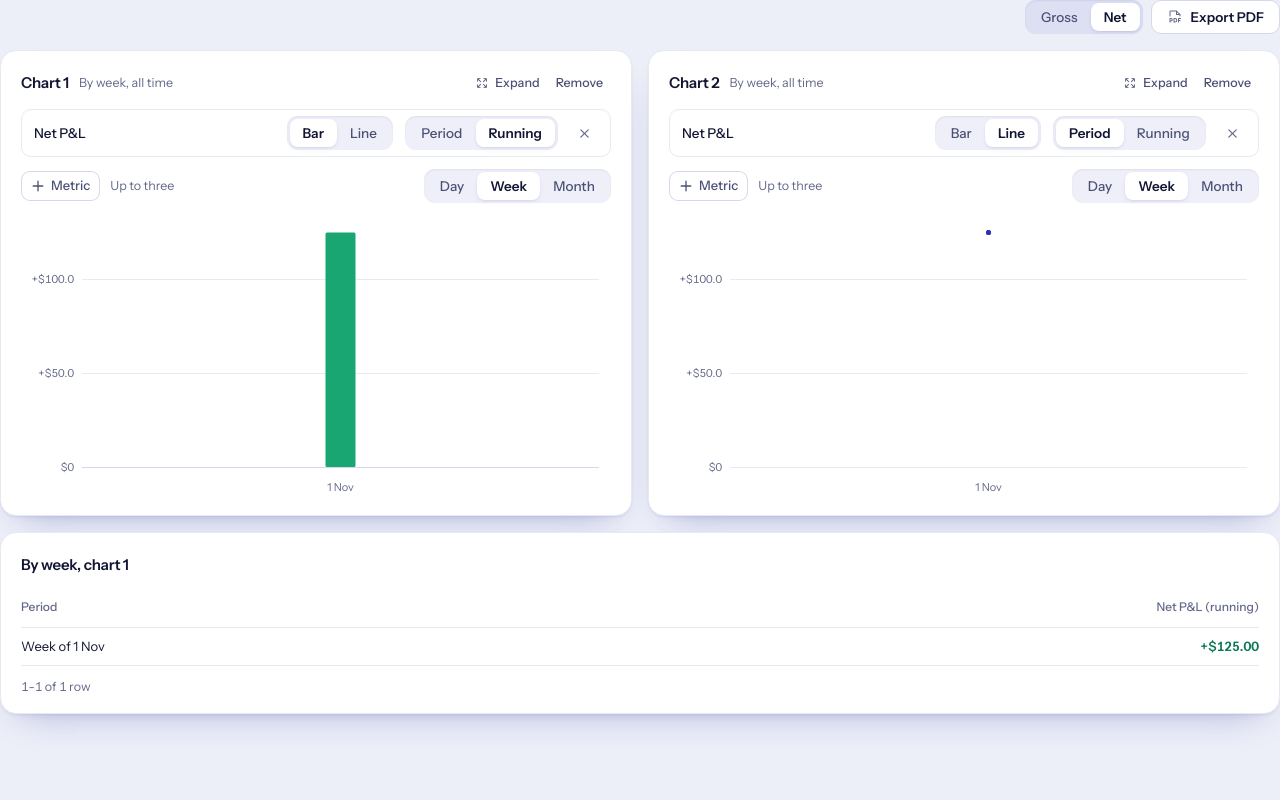
Test: each slot holds the same metric once but the two may share one
Step 1. Click the button with aria-label "Add metric" → click(709, 186), box 669,171 -> 748,201
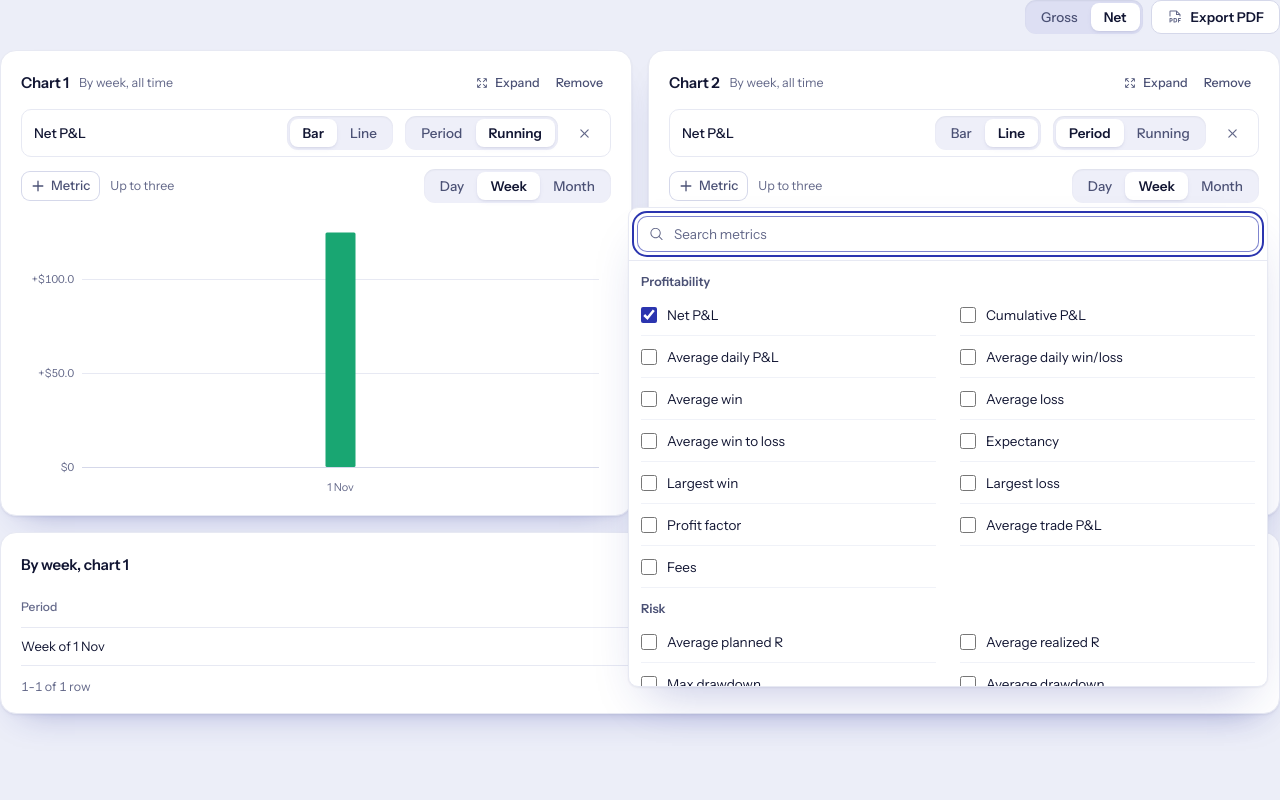
Expected: the checkbox named "Net P&L" is checked, 641,307 -> 657,323
